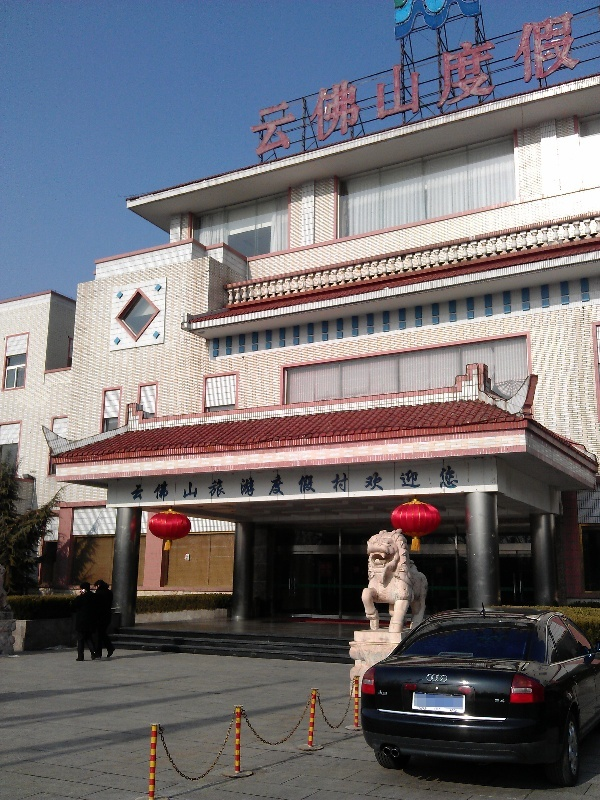text: (257, 6, 272, 161), (273, 6, 288, 161), (289, 6, 304, 161), (305, 6, 320, 161), (321, 6, 336, 161), (337, 6, 352, 161), (353, 6, 368, 161), (369, 6, 384, 161), (385, 6, 400, 161), (401, 6, 416, 161), (417, 6, 432, 161), (433, 6, 448, 161), (449, 6, 464, 161), (465, 6, 480, 161), (481, 6, 496, 161), (497, 6, 512, 161), (513, 6, 528, 161), (529, 6, 544, 161), (545, 6, 560, 161), (561, 6, 576, 161), (249, 6, 256, 161), (577, 6, 584, 161), (145, 464, 160, 503), (161, 464, 176, 503), (177, 464, 192, 503), (193, 464, 208, 503), (209, 464, 224, 503), (225, 464, 240, 503), (241, 464, 256, 503), (257, 464, 272, 503), (273, 464, 288, 503), (289, 464, 304, 503), (305, 464, 320, 503), (321, 464, 336, 503), (337, 464, 352, 503), (353, 464, 368, 503), (369, 464, 384, 503), (385, 464, 400, 503), (401, 464, 416, 503), (417, 464, 432, 503), (433, 464, 448, 503), (131, 464, 144, 503), (449, 464, 460, 503), (497, 699, 506, 703), (378, 690, 384, 696), (385, 690, 388, 696), (494, 699, 496, 703)
